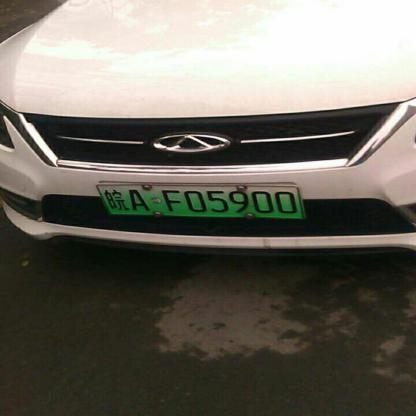lp: (97, 186, 304, 218)
